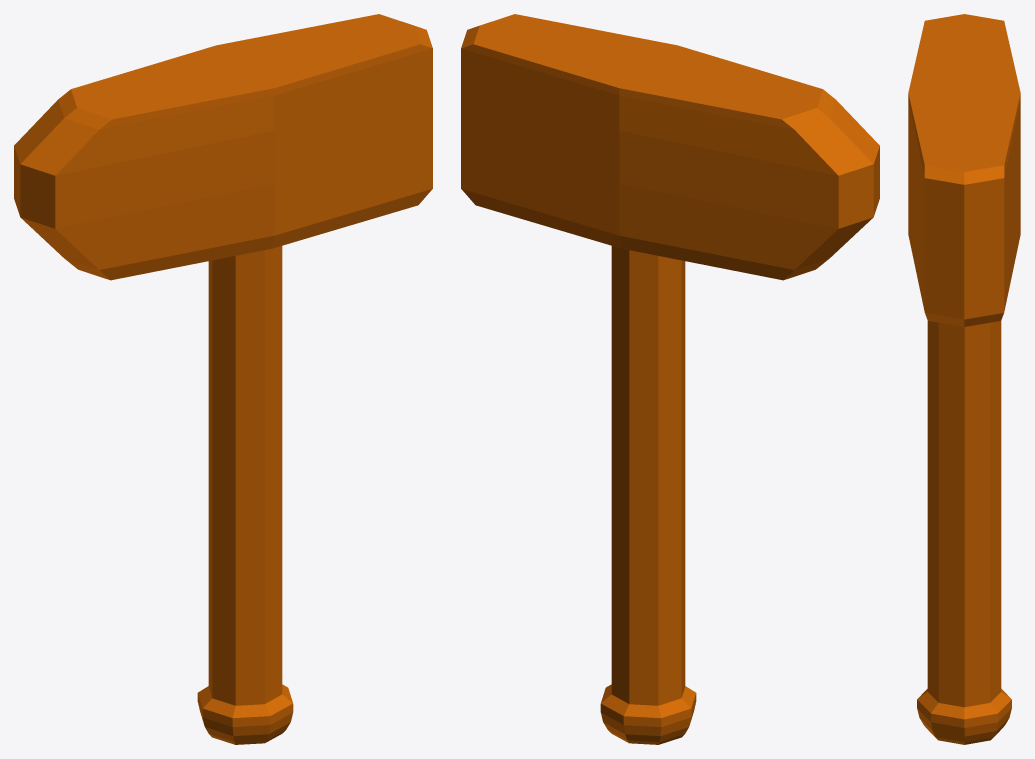
File: attack_hammer.glb
3 renders of one model, left to right at view 1: azimuth 30°, elevation 25°; view 2: azimuth 150°, elevation 25°; view 3: azimuth 270°, elevation 25°, orthographic. The views are drawn at different scales.
Parts seen in each view (by area): view 1: AttackHammer; view 2: AttackHammer; view 3: AttackHammer.
Part boxes in pixels (x1,y1,x2,y2): AttackHammer: [14, 14, 432, 744]; AttackHammer: [461, 14, 879, 744]; AttackHammer: [908, 14, 1020, 744].
Bounding box in the file's own units: 0.1342 × 0.209 × 0.0334.
Materials: 1 (1 with a texture image).
